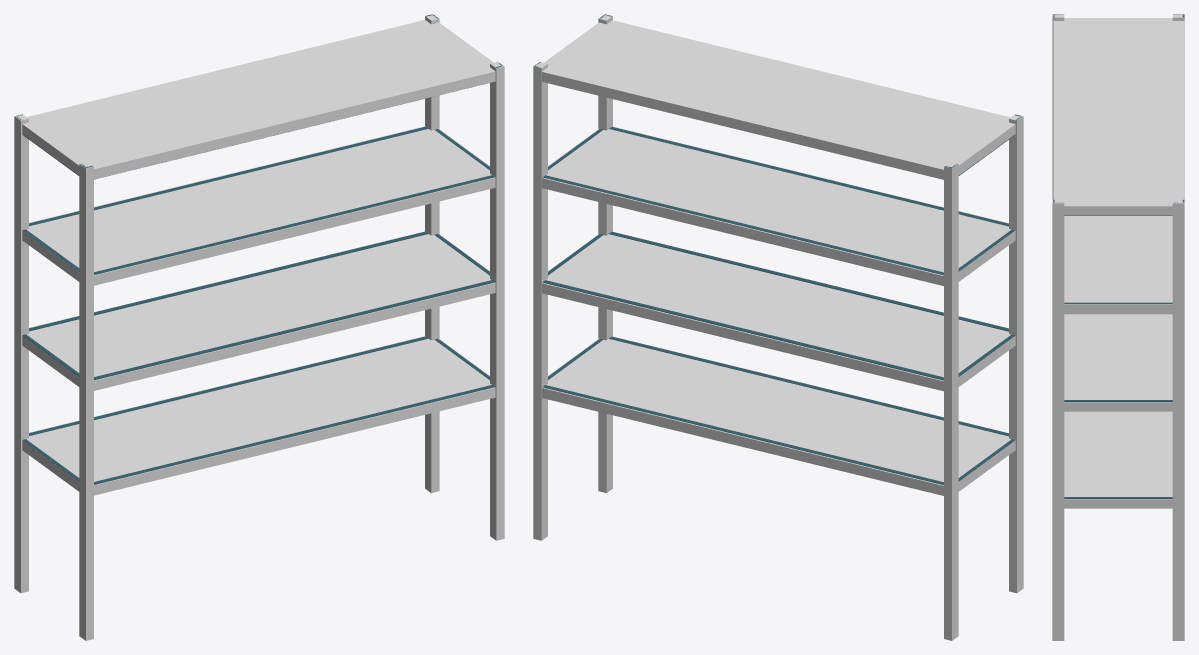
Rendered from model_prop_shelving.fbx.
3 renders of one model, left to right at view 1: azimuth 30°, elevation 25°; view 2: azimuth 150°, elevation 25°; view 3: azimuth 270°, elevation 25°, orthographic. The views are drawn at different scales.
Parts seen in each view (by area): view 1: model_prop_shelving_col, model_prop_shelving; view 2: model_prop_shelving_col, model_prop_shelving; view 3: model_prop_shelving_col, model_prop_shelving.
Boxes of the visible parts, x1,y1,x2,y2 form: model_prop_shelving_col: [14, 14, 504, 640]; model_prop_shelving: [15, 14, 502, 484]; model_prop_shelving_col: [533, 14, 1023, 640]; model_prop_shelving: [534, 14, 1021, 484]; model_prop_shelving_col: [1052, 14, 1184, 640]; model_prop_shelving: [1053, 14, 1184, 498].
Size of the model in its own units: 229 by 247 by 67.73.
Materials: 2 (1 with a texture image).
